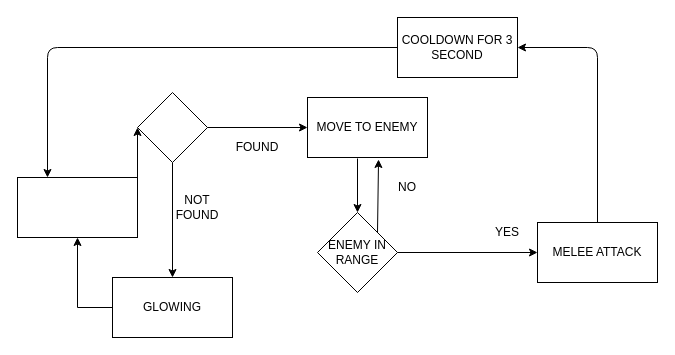
This 675x355 diagram has some shape labels left out. Each missing label, with the centre of its shape:
"CHECK ENEMY" belongs at point (172, 127).
"IDLE" belongs at point (77, 207).
